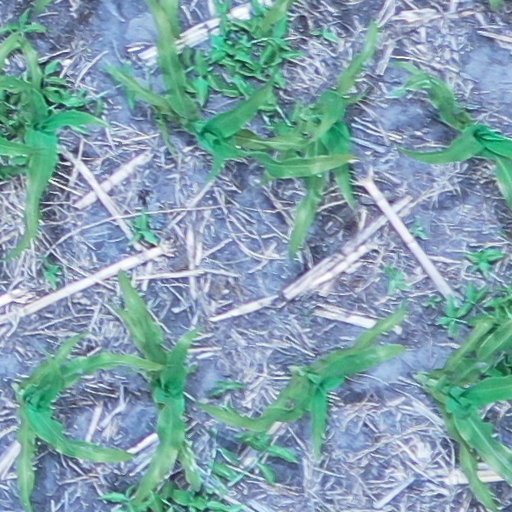planta: (198, 301, 409, 457), (254, 21, 380, 254), (13, 332, 165, 508), (110, 270, 205, 506)
